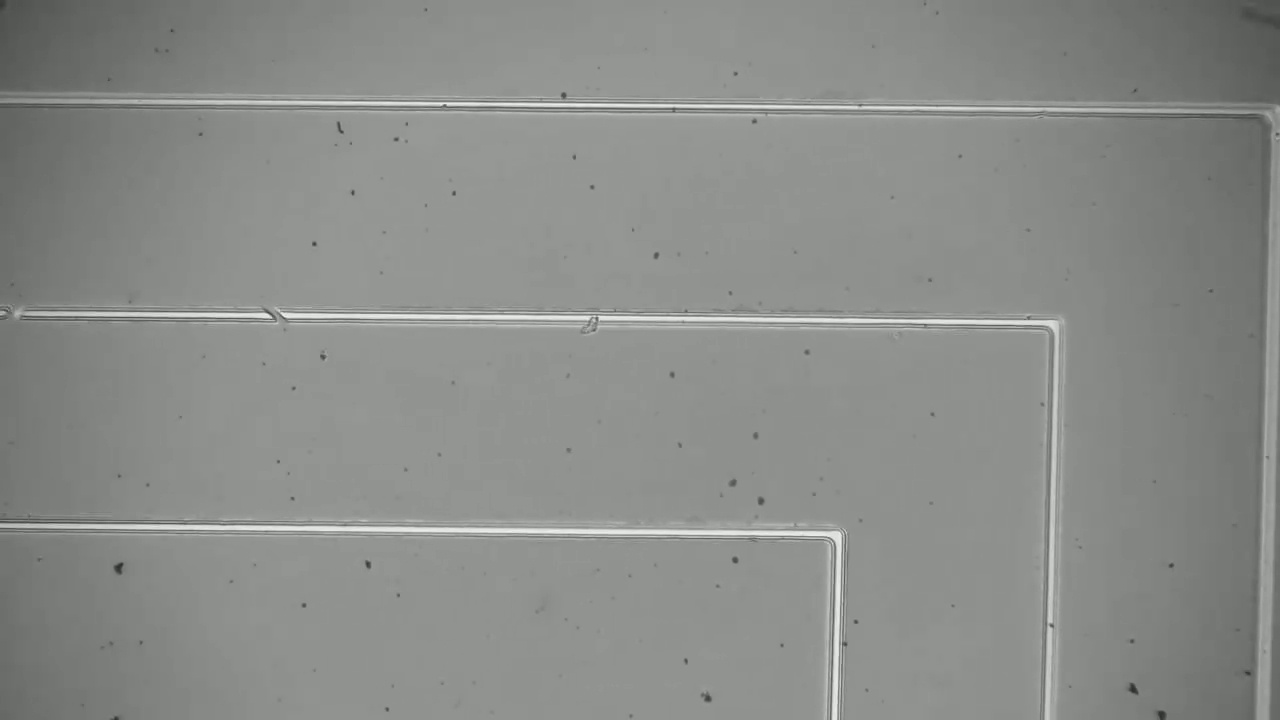open: (249, 298, 299, 335), (0, 296, 40, 331)
stains_enbedded: (571, 303, 608, 345)
